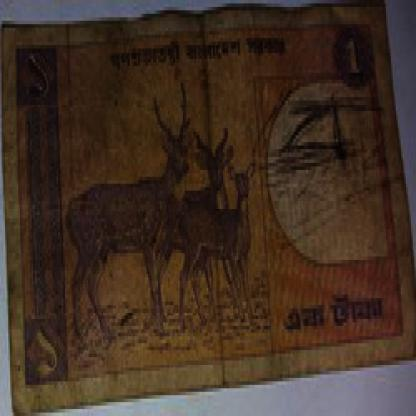One Taka: (283, 295, 388, 336), (25, 322, 67, 382), (16, 52, 56, 101), (343, 38, 364, 83)
